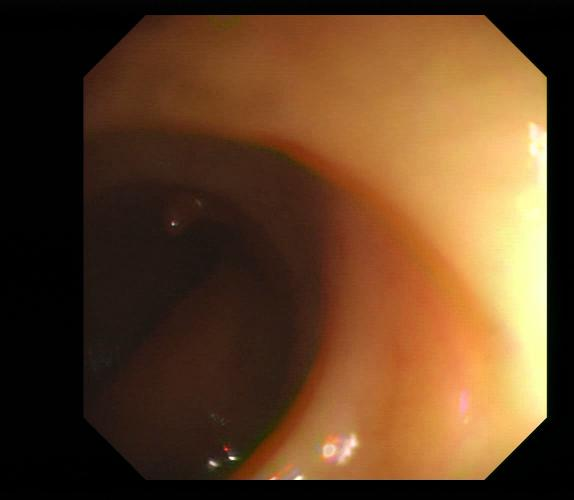polyp: (152, 186, 214, 238)
